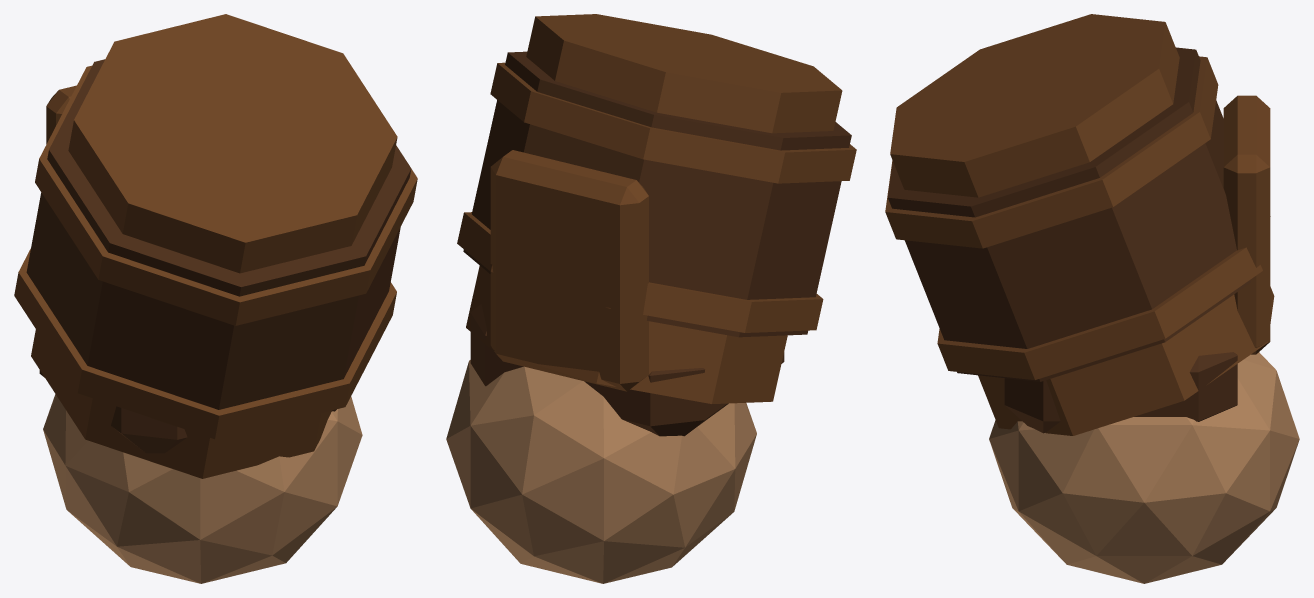
File: ForearmRight.glb
3 renders of one model, left to right at view 1: azimuth 30°, elevation 25°; view 2: azimuth 150°, elevation 25°; view 3: azimuth 270°, elevation 25°, orthographic. The views are drawn at different scales.
Visible parts, largest first — view 1: Sculpture; view 2: Sculpture; view 3: Sculpture.
Boxes of the visible parts, box(x1,y1,x2,y2) form: Sculpture: box(14, 14, 417, 583); Sculpture: box(446, 14, 856, 583); Sculpture: box(885, 14, 1299, 583).
Size of the model in its own units: 0.2251 by 0.3663 by 0.2668.
